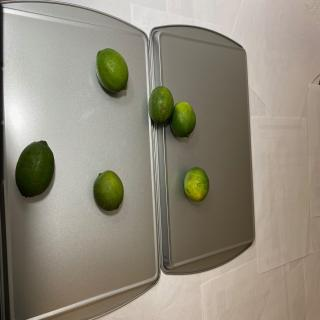Apple: (93, 170, 124, 211)
Lemon: (15, 140, 55, 198), (95, 48, 128, 93), (148, 85, 174, 124), (183, 166, 210, 202), (170, 101, 196, 138)
